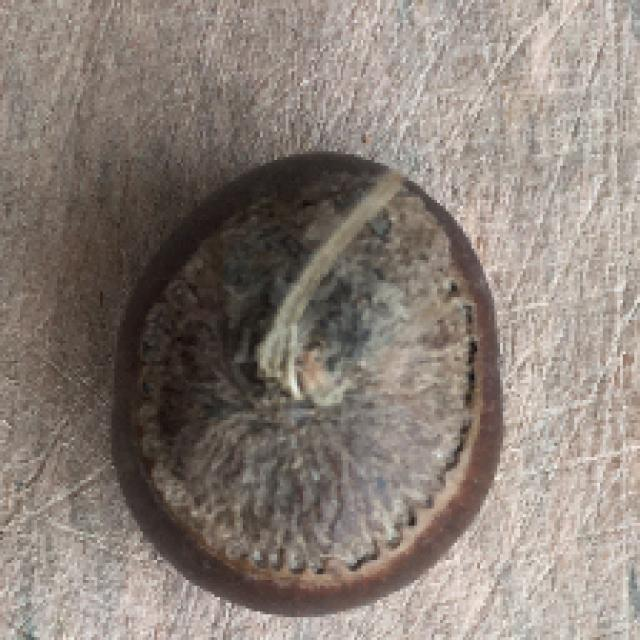damagedHazelnut: (99, 140, 533, 620)
